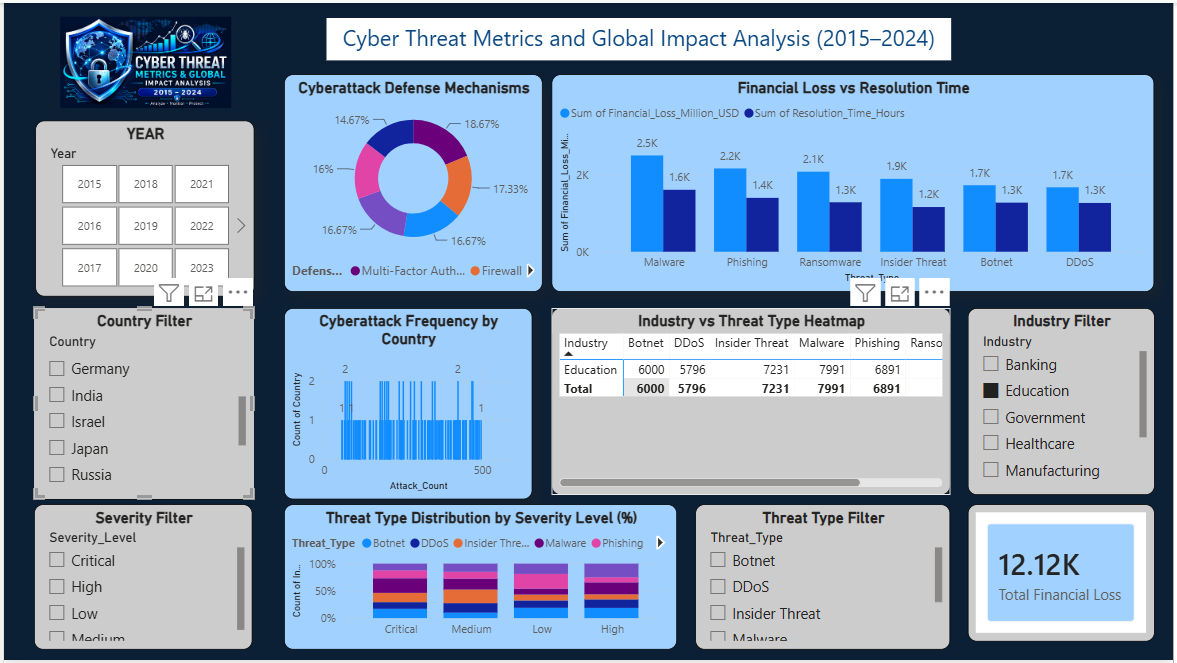

This screenshot's page, from the dashboard's own definition file:
{"tool":"powerbi","page":{"name":"Page 1","canvas":[1280,720],"ordinal":0},"visuals":[{"type":"cardVisual","fields":{"Data":["Cyber_Threat_Data.Total Financial Loss"]},"box":[1055.1,548.6,204.8,150.2],"z":0},{"type":"donutChart","title":"Cyberattack Defense Mechanisms","fields":{"Category":["Cyber_Threat_Data.Defense_Mechanism"],"Y":["CountNonNull(Cyber_Threat_Data.Incident_ID)"]},"box":[306.6,78.1,283.4,238.6],"z":1000},{"type":"clusteredColumnChart","title":"Financial Loss vs Resolution Time","fields":{"Category":["Cyber_Threat_Data.Threat_Type"],"Y":["Sum(Cyber_Threat_Data.Financial_Loss_Million_USD)","Sum(Cyber_Threat_Data.Resolution_Time_Hours)"]},"box":[599.5,78.2,660.4,238.3],"z":2000},{"type":"clusteredColumnChart","title":"Cyberattack Frequency by Country","fields":{"Y":["CountNonNull(Cyber_Threat_Data.Country)"],"Category":["Cyber_Threat_Data.Attack_Count"]},"box":[306.6,333.9,271.8,209.8],"z":3000},{"type":"pivotTable","title":"Industry vs Threat Type Heatmap","fields":{"Rows":["Cyber_Threat_Data.Industry"],"Columns":["Cyber_Threat_Data.Threat_Type"],"Values":["Sum(Cyber_Threat_Data.Attack_Count)"]},"box":[599.5,333.9,436.9,204.8],"z":4000},{"type":"hundredPercentStackedColumnChart","title":"Threat Type Distribution by Severity Level (%)","fields":{"Category":["Cyber_Threat_Data.Severity_Level"],"Y":["CountNonNull(Cyber_Threat_Data.Incident_ID)"],"Series":["Cyber_Threat_Data.Threat_Type"]},"box":[306.6,548.6,430.7,158.9],"z":5000},{"type":"slicer","title":"Country Filter","fields":{"Values":["Cyber_Threat_Data.Country"]},"box":[33.5,333.9,240.8,209.8],"z":6000},{"type":"slicer","title":"Industry Filter","fields":{"Values":["Cyber_Threat_Data.Industry"]},"box":[1055.1,333.9,204.8,204.8],"z":7000},{"type":"slicer","title":"Threat Type Filter","fields":{"Values":["Cyber_Threat_Data.Threat_Type"]},"box":[757.2,548.6,279.3,158.9],"z":8000},{"type":"slicer","title":"Severity Filter","fields":{"Values":["Cyber_Threat_Data.Severity_Level"]},"box":[33.5,548.6,239.6,158.9],"z":9000},{"type":"textbox","box":[352.8,15.9,684,46.3],"z":10000},{"type":"slicer","title":"YEAR","fields":{"Values":["Cyber_Threat_Data.Year"]},"box":[33.8,129.1,240.1,193],"z":11000},{"type":"image","box":[61.5,15.7,187,100.1],"z":12000}]}

Visuals, with their boxes in screenshot pixels (x1, y1, x2, y2), scaled from the page's 1280x720 canvas onto the 1177x663 screenshot:
cardVisual - Cyber_Threat_Data.Total Financial Loss: bbox(970, 505, 1159, 643)
"Cyberattack Defense Mechanisms" donutChart: bbox(282, 72, 543, 292)
"Financial Loss vs Resolution Time" clusteredColumnChart: bbox(551, 72, 1159, 291)
"Cyberattack Frequency by Country" clusteredColumnChart: bbox(282, 307, 532, 501)
"Industry vs Threat Type Heatmap" pivotTable: bbox(551, 307, 953, 496)
"Threat Type Distribution by Severity Level (%)" hundredPercentStackedColumnChart: bbox(282, 505, 678, 651)
"Country Filter" slicer: bbox(31, 307, 252, 501)
"Industry Filter" slicer: bbox(970, 307, 1159, 496)
"Threat Type Filter" slicer: bbox(696, 505, 953, 651)
"Severity Filter" slicer: bbox(31, 505, 251, 651)
textbox: bbox(324, 15, 953, 57)
"YEAR" slicer: bbox(31, 119, 252, 297)
image: bbox(57, 14, 229, 107)
